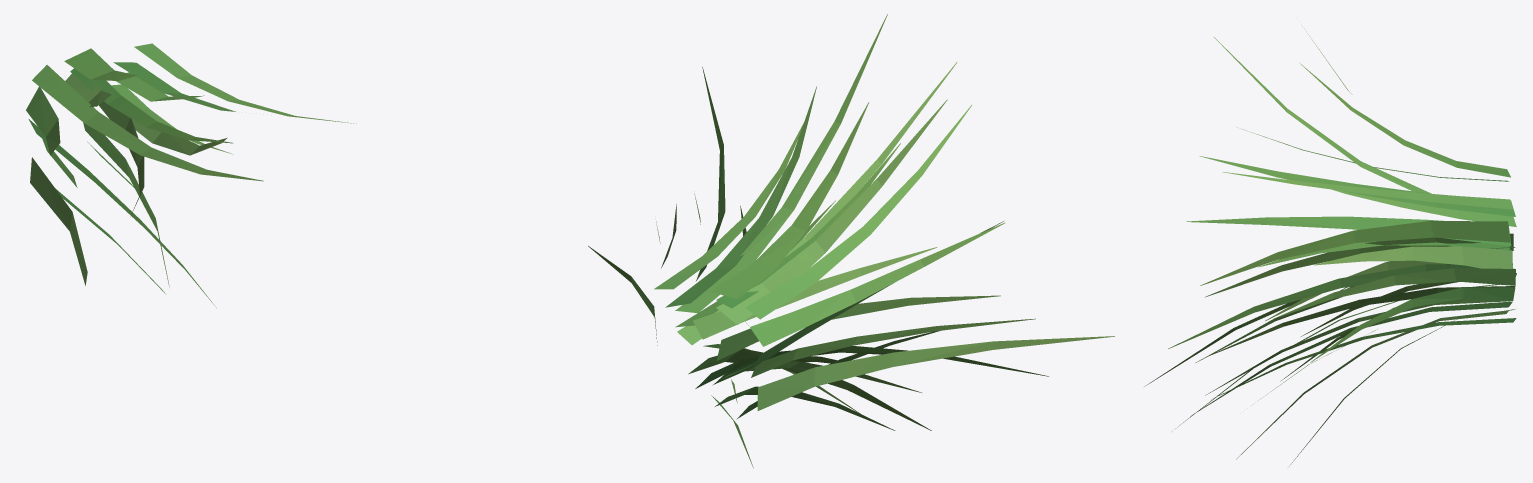
The model's file is Grama.glb.
3 renders of one model, left to right at view 1: azimuth 30°, elevation 25°; view 2: azimuth 150°, elevation 25°; view 3: azimuth 270°, elevation 25°, orthographic. The views are drawn at different scales.
Parts seen in each view (by area): view 1: grass_blade_23, grass_blade_35, grass_blade_39, grass_blade_04, grass_blade_46, grass_blade_26, grass_blade_30, grass_blade_14, grass_blade_16, grass_blade_22, grass_blade_44, grass_blade_13 (+2 smaller); view 2: grass_blade_39, grass_blade_43, grass_blade_46, grass_blade_23, grass_blade_26, grass_blade_13, grass_blade_22, grass_blade_00, grass_blade_04, grass_blade_44, grass_blade_30, grass_blade_14 (+8 smaller); view 3: grass_blade_07, grass_blade_05, grass_blade_15, grass_blade_28, grass_blade_37, grass_blade_04, grass_blade_34, grass_blade_22, grass_blade_02, grass_blade_20, grass_blade_26, grass_blade_47 (+9 smaller).
Part boxes in pixels (x1,y1,x2,y2): grass_blade_23: [32, 65, 263, 181]; grass_blade_35: [70, 68, 233, 143]; grass_blade_39: [30, 157, 87, 285]; grass_blade_04: [134, 43, 356, 123]; grass_blade_46: [26, 86, 60, 155]; grass_blade_26: [64, 48, 136, 80]; grass_blade_30: [83, 122, 169, 287]; grass_blade_14: [131, 119, 227, 155]; grass_blade_16: [28, 119, 216, 307]; grass_blade_22: [113, 62, 235, 111]; grass_blade_44: [98, 101, 144, 212]; grass_blade_13: [116, 72, 204, 101]; grass_blade_39: [757, 336, 1114, 410]; grass_blade_43: [716, 99, 947, 324]; grass_blade_46: [750, 222, 1004, 346]; grass_blade_23: [745, 105, 971, 319]; grass_blade_26: [709, 102, 869, 298]; grass_blade_13: [675, 14, 887, 313]; grass_blade_22: [665, 86, 816, 307]; grass_blade_00: [751, 318, 1035, 377]; grass_blade_04: [654, 123, 803, 289]; grass_blade_44: [693, 247, 937, 339]; grass_blade_30: [716, 295, 1000, 360]; grass_blade_14: [677, 62, 957, 345]; grass_blade_07: [1200, 221, 1510, 285]; grass_blade_05: [1314, 246, 1512, 268]; grass_blade_15: [1273, 268, 1515, 318]; grass_blade_28: [1186, 216, 1511, 246]; grass_blade_37: [1168, 263, 1512, 348]; grass_blade_04: [1222, 172, 1513, 209]; grass_blade_34: [1205, 233, 1513, 297]; grass_blade_22: [1199, 156, 1515, 216]; grass_blade_02: [1310, 287, 1515, 362]; grass_blade_20: [1206, 286, 1515, 356]; grass_blade_26: [1300, 63, 1510, 177]; grass_blade_47: [1190, 301, 1512, 416].
Bounding box in the file's own units: 0.3954 × 0.3676 × 0.3182.
